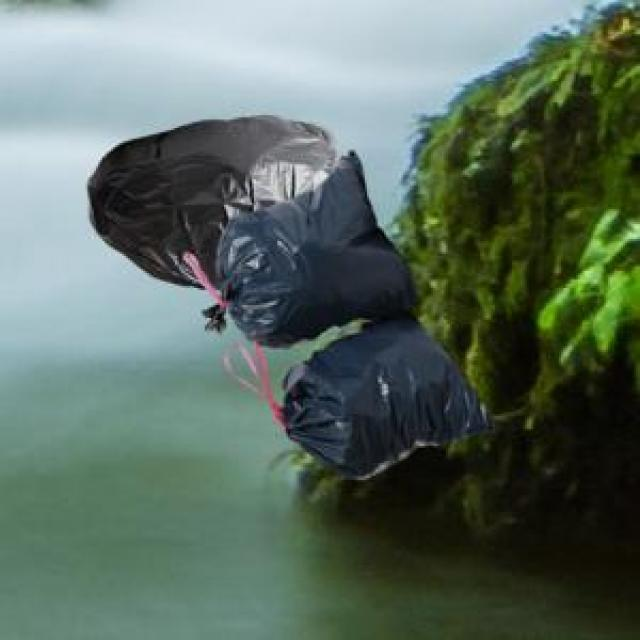waste: (85, 115, 339, 282), (212, 157, 417, 336), (280, 314, 490, 476)
